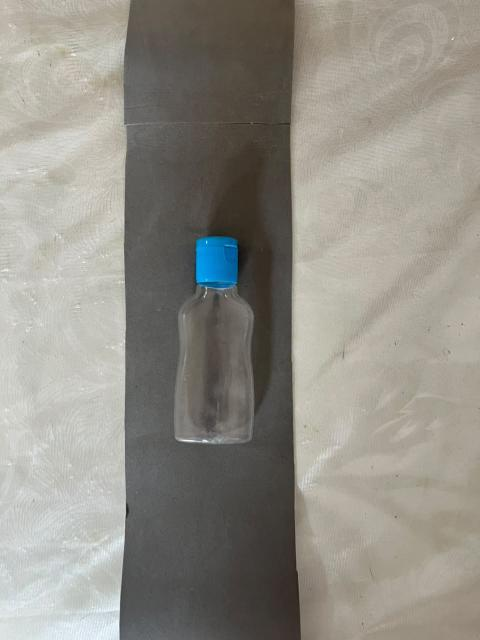PET: (143, 205, 280, 475)
